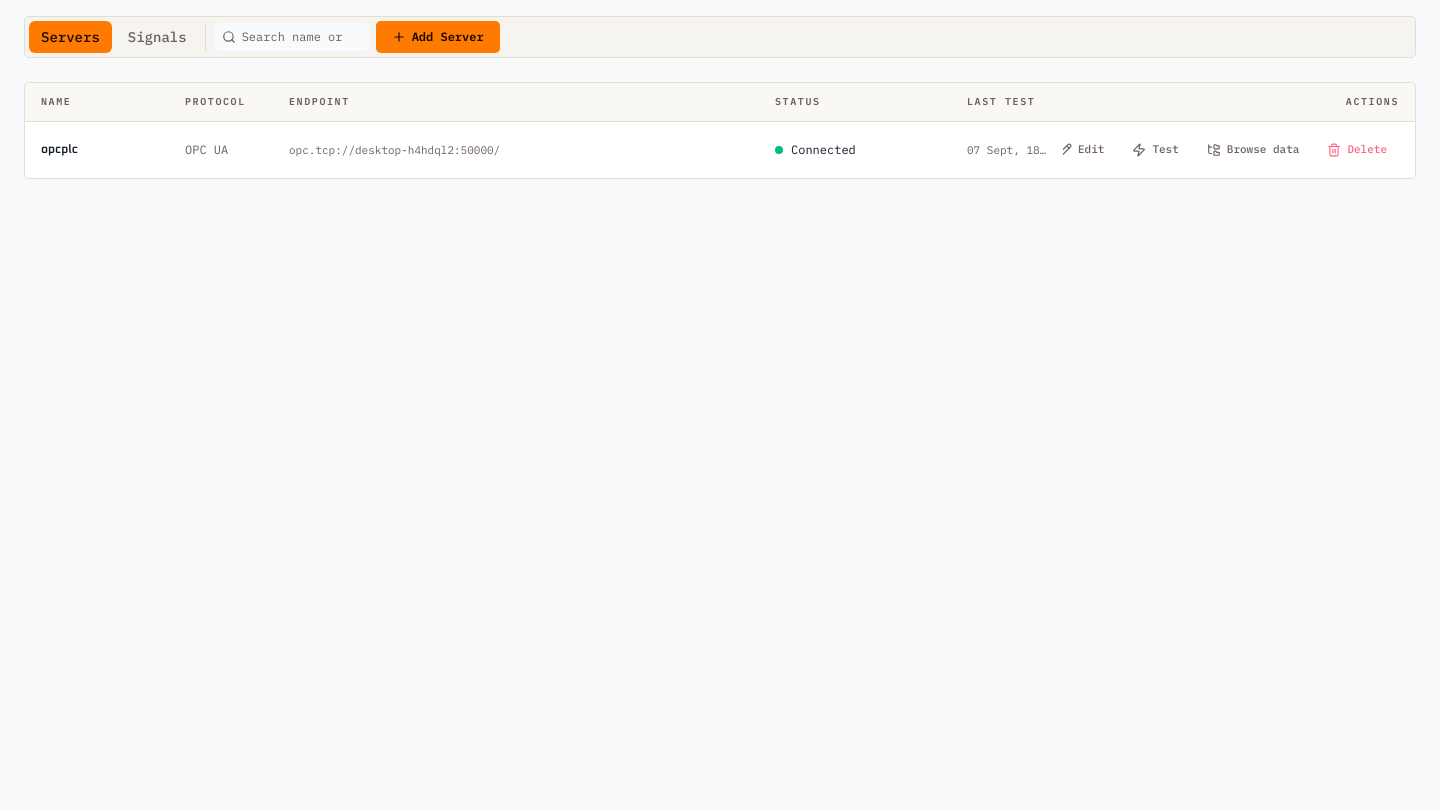
Test case: the Browse data drawer › opens the signal terminal when the server name is clicked
Click the button with aria-label "open opcplc".
click(97, 150)  # box [41,142,153,158]
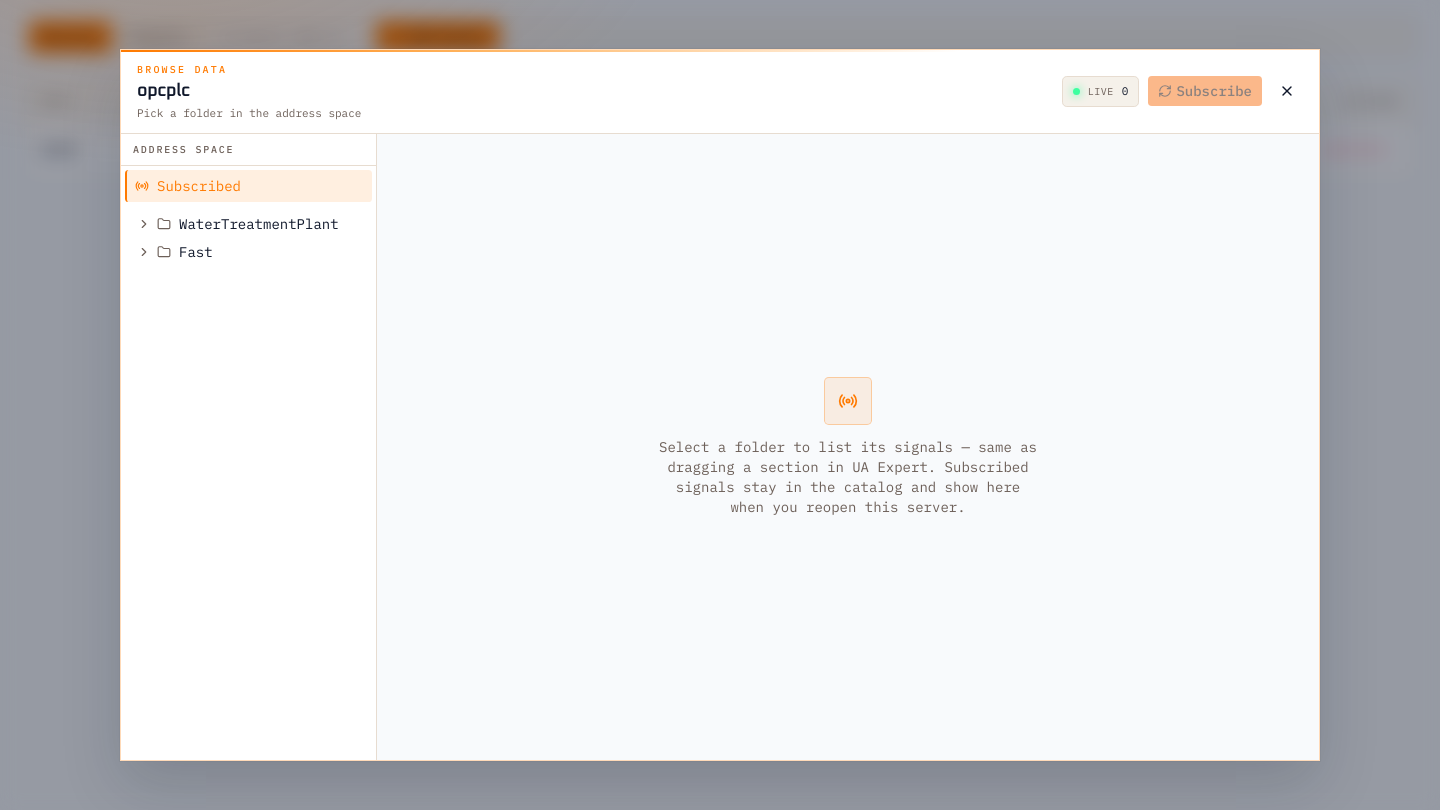
Now the dialog named "browse opc ua data" is shown
